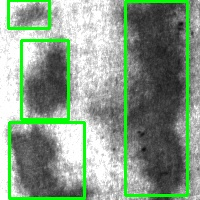patches: (125, 1, 187, 195), (9, 122, 84, 198), (21, 40, 68, 119), (9, 1, 49, 28)
